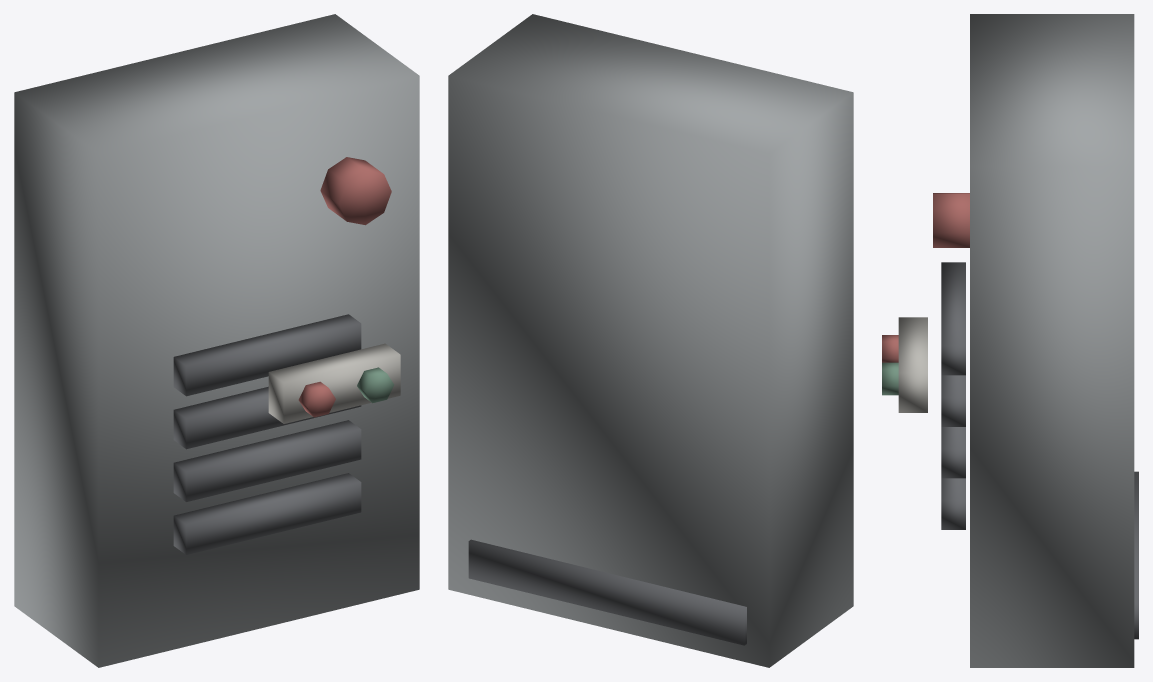
File: wall_intercom__reinforced.glb
3 renders of one model, left to right at view 1: azimuth 30°, elevation 25°; view 2: azimuth 150°, elevation 25°; view 3: azimuth 270°, elevation 25°, orthographic. The views are drawn at different scales.
Visible parts, largest first — view 1: world; view 2: world; view 3: world.
Boxes of the visible parts, x1,y1,x2,y2 form: world: (14,14,419,667); world: (448,14,853,667); world: (882,14,1138,667).
Size of the model in its own units: 0.2266 by 0.3468 by 0.161.
